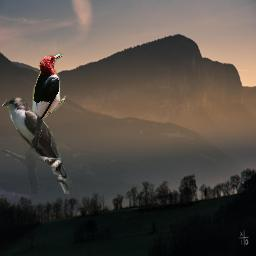Cuckoo: (2, 97, 75, 194)
Woodpecker: (26, 52, 66, 133)
